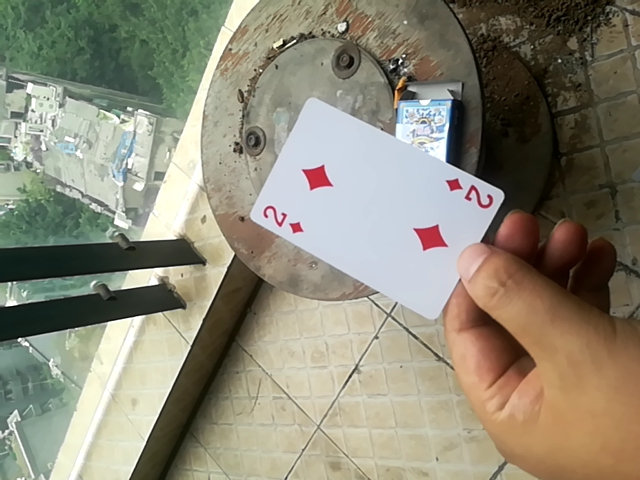fk 2: (243, 96, 508, 324)
